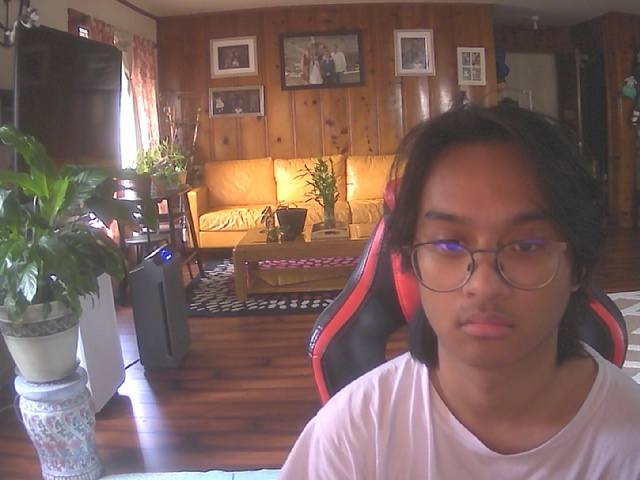neutral: (402, 112, 597, 373)
